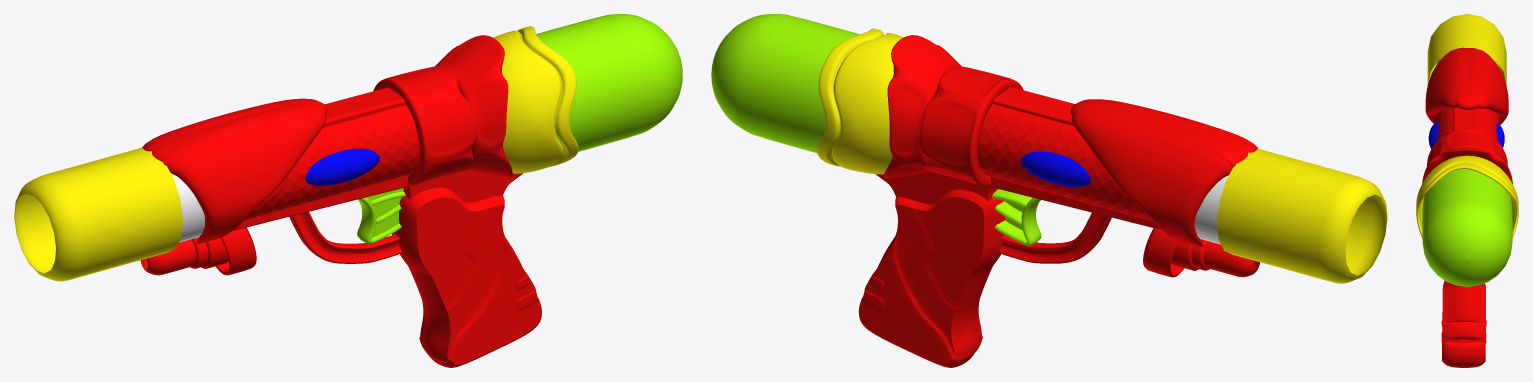
The model's file is gun.glb.
3 views of the same model, side by side, from view 1: azimuth 30°, elevation 25°; view 2: azimuth 150°, elevation 25°; view 3: azimuth 270°, elevation 25° (orthographic). The views are drawn at different scales.
Parts seen in each view (by area): view 1: Plane012, Object001_05_-_Defaultas_0, Plane013, ChamferCyl001, Tube002, Tube003, Tube001, Tube004, Line002, Loft001, Line007, Sphere001 (+4 smaller); view 2: Plane012, Object001_05_-_Defaultas_0, Plane013, ChamferCyl001, Tube002, Tube003, Tube001, Tube004, Line002, Loft001, Line007, Circle002 (+3 smaller); view 3: ChamferCyl001, Plane013, Plane012, Object001_05_-_Defaultas_0, Tube002, Tube001, Tube003, Tube004, Line002, Sphere001.
Boxes of the visible parts, x1,y1,x2,y2 form: Plane012: (392, 188, 541, 367); Object001_05_-_Defaultas_0: (14, 147, 182, 281); Plane013: (142, 98, 327, 243); ChamferCyl001: (536, 14, 682, 151); Tube002: (493, 26, 578, 173); Tube003: (245, 105, 419, 219); Tube001: (373, 66, 476, 186); Tube004: (435, 35, 512, 177); Line002: (233, 87, 523, 230); Loft001: (289, 212, 402, 263); Line007: (140, 237, 228, 275); Sphere001: (305, 148, 379, 186); Plane012: (858, 189, 1004, 367); Object001_05_-_Defaultas_0: (1217, 148, 1387, 283); Plane013: (1070, 99, 1257, 246); ChamferCyl001: (711, 14, 859, 152); Tube002: (817, 28, 903, 174); Tube003: (977, 103, 1152, 221); Tube001: (919, 66, 1023, 188); Tube004: (883, 35, 961, 178); Line002: (875, 87, 1160, 229); Loft001: (998, 212, 1111, 263); Line007: (1171, 239, 1259, 277); Circle002: (992, 189, 1041, 245); ChamferCyl001: (1422, 169, 1512, 286); Plane013: (1425, 47, 1508, 124); Plane012: (1441, 280, 1486, 367); Object001_05_-_Defaultas_0: (1427, 14, 1506, 85); Tube002: (1416, 155, 1518, 237); Tube001: (1427, 128, 1507, 166); Tube003: (1435, 108, 1498, 141); Tube004: (1422, 147, 1512, 183); Line002: (1453, 108, 1479, 130); Sphere001: (1428, 121, 1504, 148).
Bounding box in the file's own units: 17.54 × 8.04 × 3.35.
